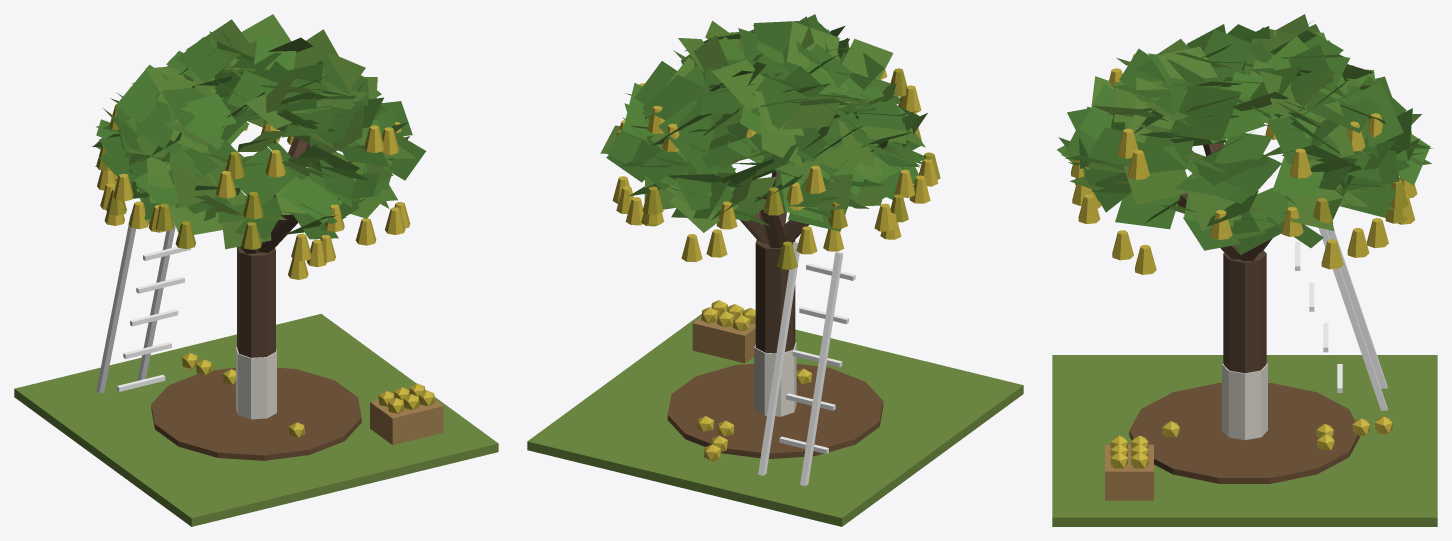
File: armut.glb
3 renders of one model, left to right at view 1: azimuth 30°, elevation 25°; view 2: azimuth 150°, elevation 25°; view 3: azimuth 270°, elevation 25°, orthographic. The views are drawn at different scales.
Parts seen in each view (by area): view 1: Basamak; view 2: Basamak; view 3: Basamak.
Boxes of the visible parts, x1,y1,x2,y2 form: Basamak: [14, 14, 498, 526]; Basamak: [527, 14, 1023, 526]; Basamak: [1052, 14, 1437, 526].
Size of the model in its own units: 1 by 1.15 by 1.
